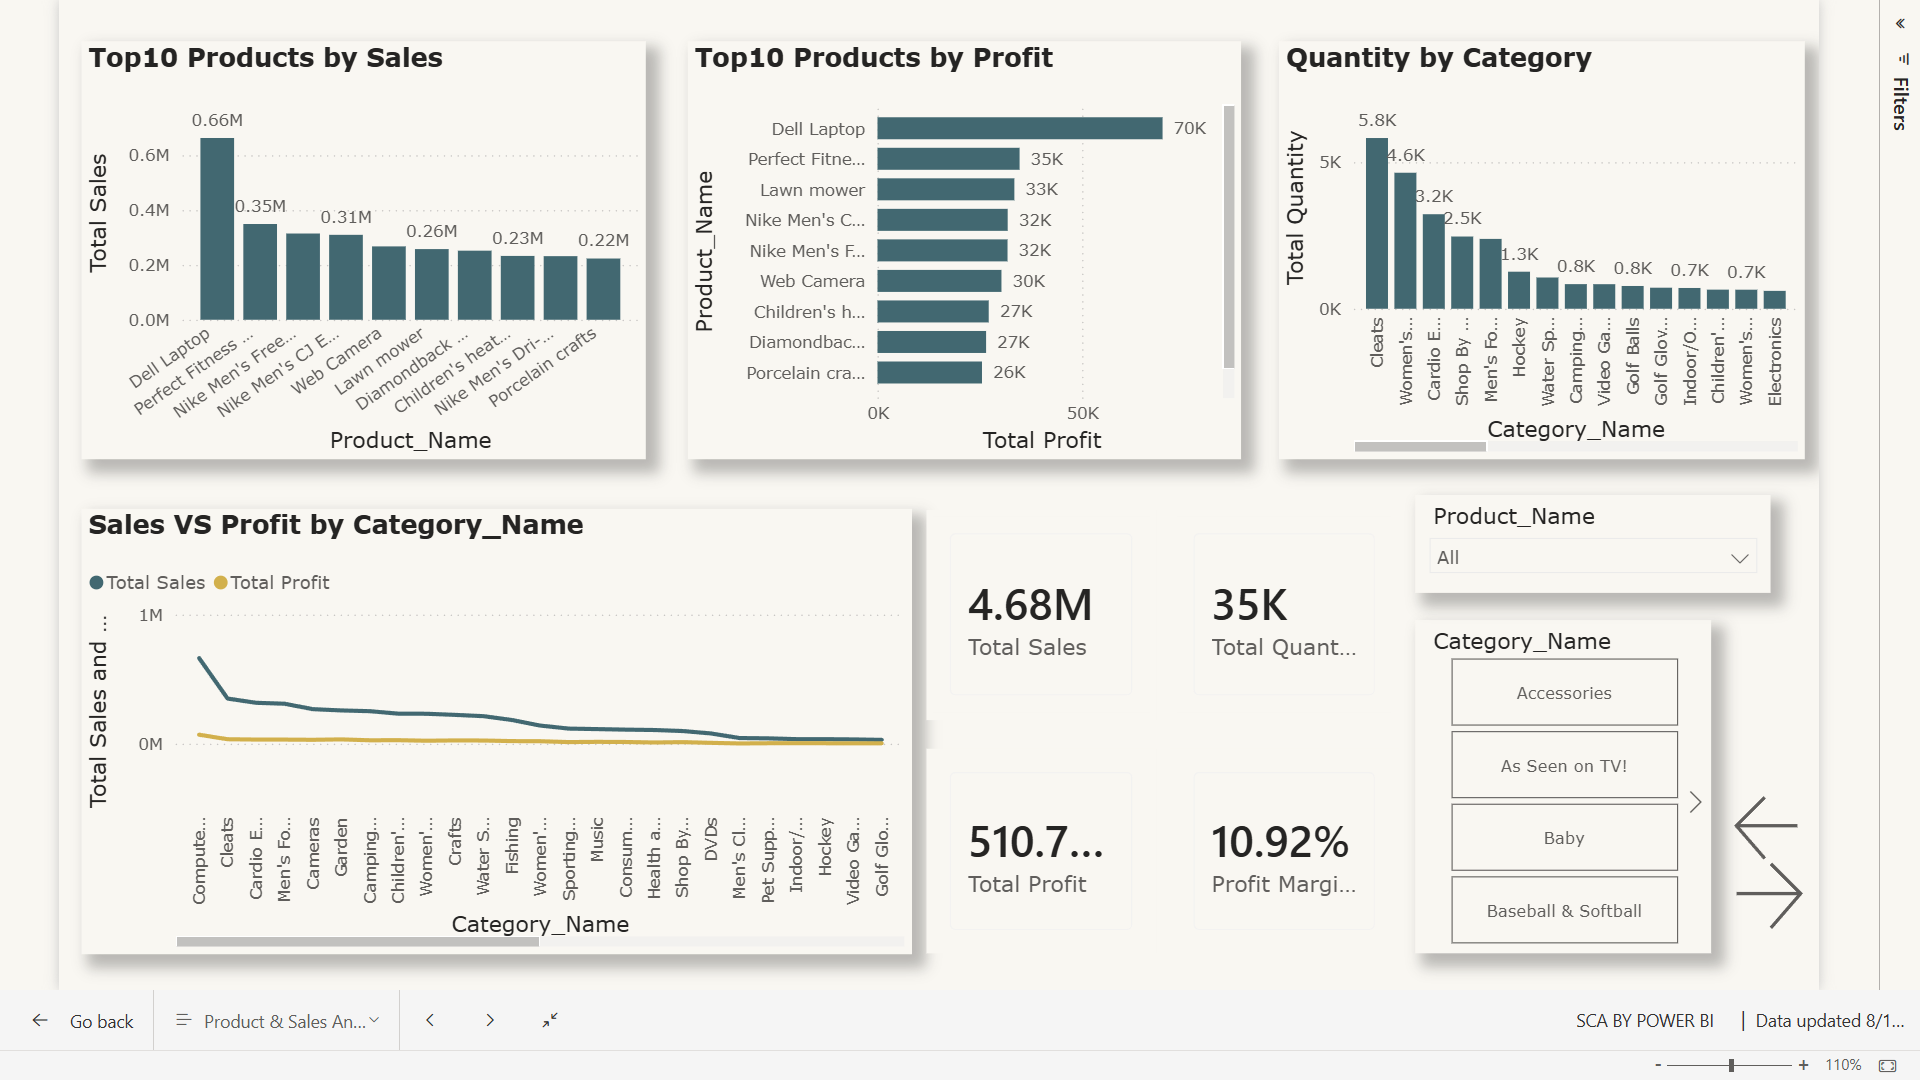

The page's visual inventory and layout, read from the dashboard file:
{"tool":"powerbi","page":{"name":"Product & Sales Analysis","canvas":[1280,720],"ordinal":2},"visuals":[{"type":"columnChart","title":"Top10 Products by Sales","fields":{"Category":["Dim_Product.Product_Name"],"Y":["Fact_Order.Total Sales"]},"box":[16.2,30,410,303.8],"z":0},{"type":"clusteredBarChart","title":"Top10 Products by Profit","fields":{"Category":["Dim_Product.Product_Name"],"Y":["Fact_Order.Total Profit"]},"box":[457.5,30,402.5,303.8],"z":1},{"type":"lineChart","title":"Sales VS Profit by Category_Name","fields":{"Category":["Dim_Product.Category_Name"],"Y":["Fact_Order.Total Sales","Fact_Order.Total Profit"]},"box":[16.2,370,603.8,323.8],"z":2},{"type":"clusteredColumnChart","title":"Quantity by Category","fields":{"Category":["Dim_Product.Category_Name"],"Y":["Fact_Order.Total Quantity"]},"box":[887.5,30,382.5,303.8],"z":3},{"type":"slicer","fields":{"Values":["Dim_Product.Category_Name"]},"box":[986.2,451.2,215,242.5],"z":4},{"type":"slicer","fields":{"Values":["Dim_Product.Product_Name"]},"box":[986.2,360,258.8,71.2],"z":5},{"type":"actionButton","box":[1212.5,572.5,63.8,58.8],"z":6},{"type":"actionButton","box":[1212.5,621.2,63.8,61.2],"z":7},{"type":"cardVisual","fields":{"Data":["Fact_Order.Total Sales"]},"box":[631,370.5,167.5,152.9],"z":8},{"type":"cardVisual","fields":{"Data":["Fact_Order.Total Profit"]},"box":[631,544.2,167.5,149.2],"z":9},{"type":"cardVisual","fields":{"Data":["Fact_Order.Total Quantity"]},"box":[808.3,370.5,166.3,152.9],"z":11},{"type":"cardVisual","fields":{"Data":["Fact_Order.Profit Margin %"]},"box":[808.3,544.2,166.3,149.2],"z":12}]}

Visuals, with their boxes on the page's 1280x720 design canvas (x1, y1, x2, y2). These are canvas units, not pixel positions in the 1920x1080 screenshot, which may show the page scaled, cropped or inside an application window:
"Top10 Products by Sales" columnChart: detection(16, 30, 426, 334)
"Top10 Products by Profit" clusteredBarChart: detection(458, 30, 860, 334)
"Sales VS Profit by Category_Name" lineChart: detection(16, 370, 620, 694)
"Quantity by Category" clusteredColumnChart: detection(888, 30, 1270, 334)
slicer - Dim_Product.Category_Name: detection(986, 451, 1201, 694)
slicer - Dim_Product.Product_Name: detection(986, 360, 1245, 431)
actionButton: detection(1212, 572, 1276, 631)
actionButton: detection(1212, 621, 1276, 682)
cardVisual - Fact_Order.Total Sales: detection(631, 370, 798, 523)
cardVisual - Fact_Order.Total Profit: detection(631, 544, 798, 693)
cardVisual - Fact_Order.Total Quantity: detection(808, 370, 975, 523)
cardVisual - Fact_Order.Profit Margin %: detection(808, 544, 975, 693)
